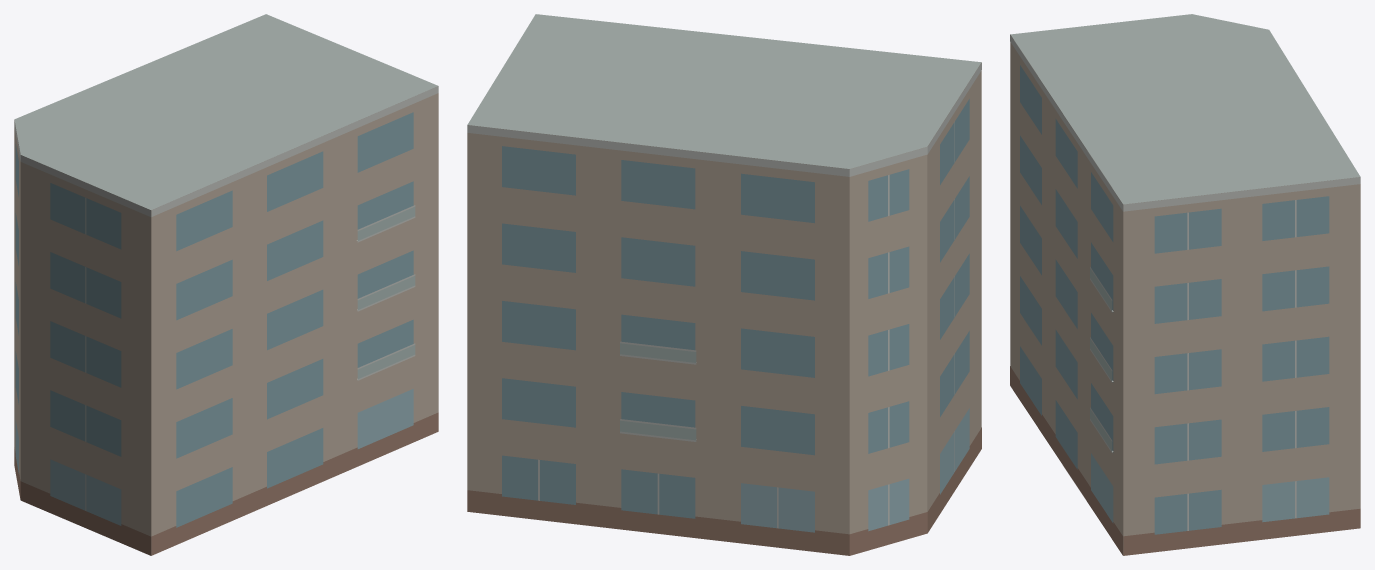
The model's file is survey-upis-32718623.glb.
3 views of the same model, side by side, from view 1: azimuth 30°, elevation 25°; view 2: azimuth 150°, elevation 25°; view 3: azimuth 270°, elevation 25° (orthographic). The views are drawn at different scales.
Visible parts, largest first — view 1: survey-upis-32718623.tmp; view 2: survey-upis-32718623.tmp; view 3: survey-upis-32718623.tmp.
Boxes of the visible parts, box(x1,y1,x2,y2) form: survey-upis-32718623.tmp: box(14, 14, 438, 555); survey-upis-32718623.tmp: box(467, 14, 981, 555); survey-upis-32718623.tmp: box(1010, 14, 1360, 555).
Bounding box in the file's own units: 13.9 × 11.95 × 10.81.
